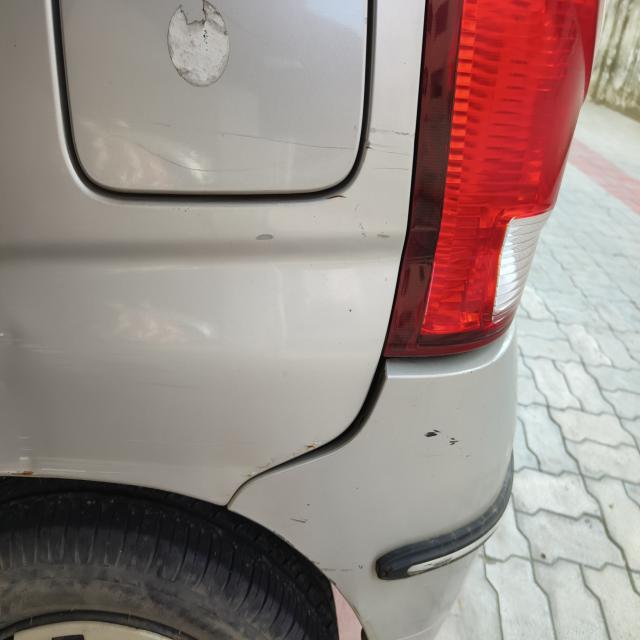scratch: (222, 114, 436, 170), (2, 446, 216, 497), (295, 271, 481, 310), (234, 435, 330, 496), (0, 323, 72, 362), (419, 423, 473, 462)
